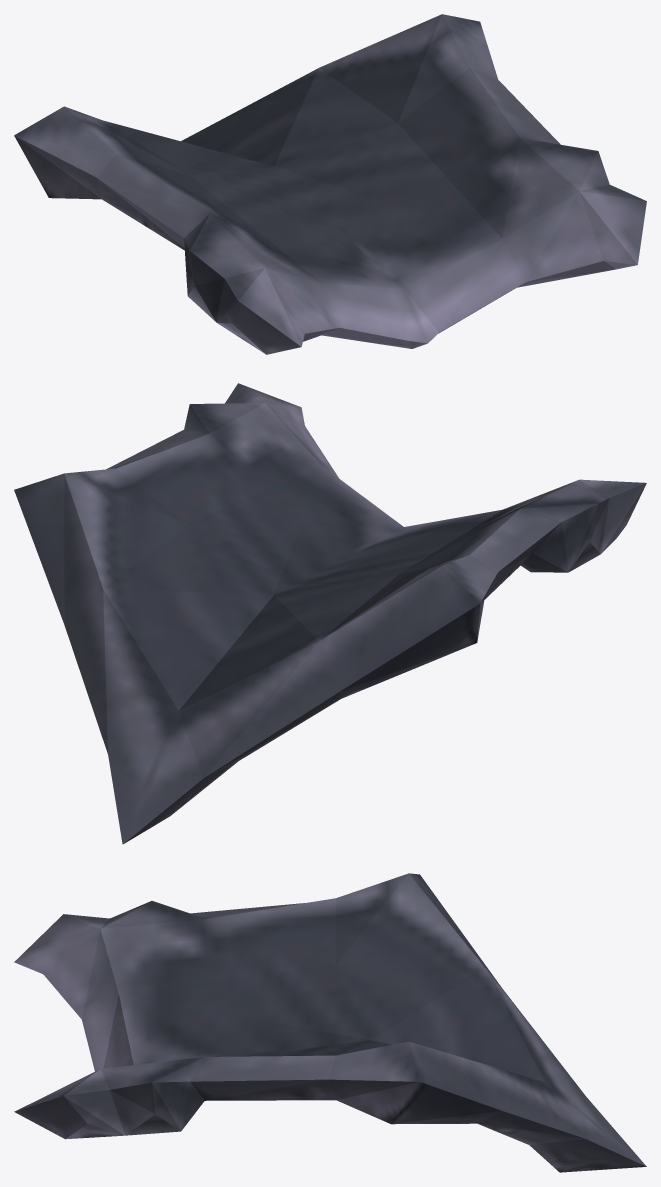
The picture shows the model from 3 angles, top to bottom: view 1: azimuth 30°, elevation 25°; view 2: azimuth 150°, elevation 25°; view 3: azimuth 270°, elevation 25°; orthographic projection. The views are drawn at different scales.
Parts seen in each view (by area): view 1: skelly.model_r4-Mesh[0]; view 2: skelly.model_r4-Mesh[0]; view 3: skelly.model_r4-Mesh[0].
Boxes of the visible parts, x1=… form: skelly.model_r4-Mesh[0]: x1=14, y1=14, x2=646, y2=354; skelly.model_r4-Mesh[0]: x1=14, y1=383, x2=646, y2=844; skelly.model_r4-Mesh[0]: x1=14, y1=873, x2=646, y2=1172.
Size of the model in its own units: 0.6518 by 0.3153 by 0.8406.
Materials: 1 (1 with a texture image).
